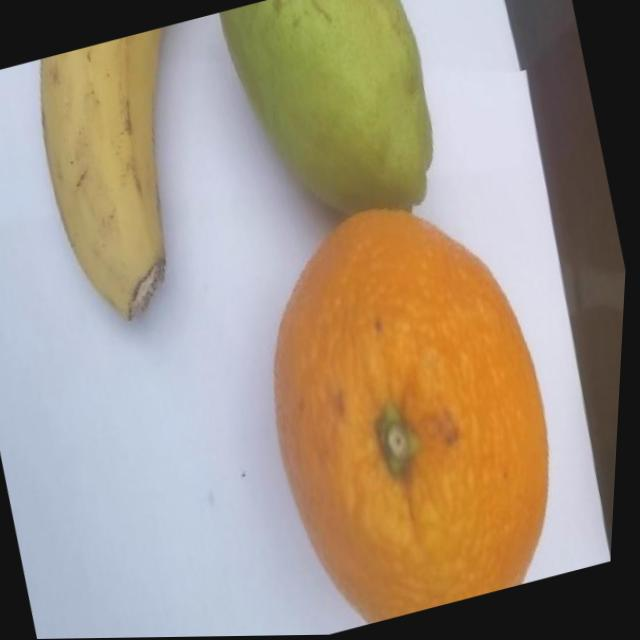Banana: (16, 26, 234, 334)
Orange: (225, 174, 600, 637)
